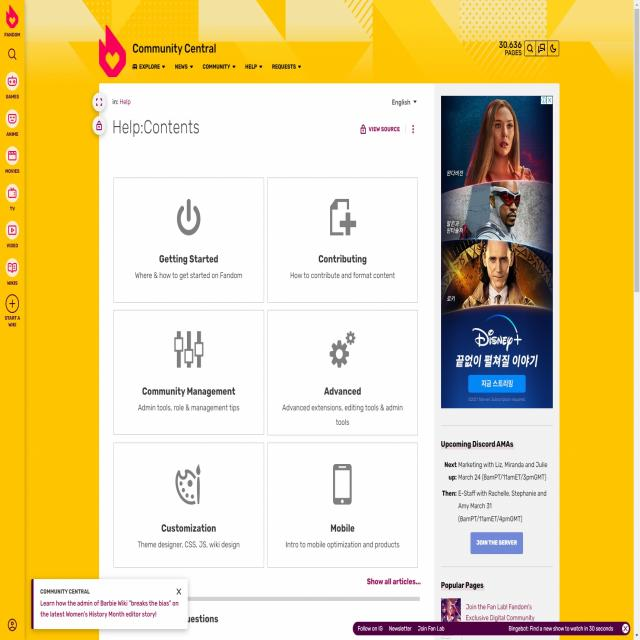menu-bar: (131, 56, 305, 78)
